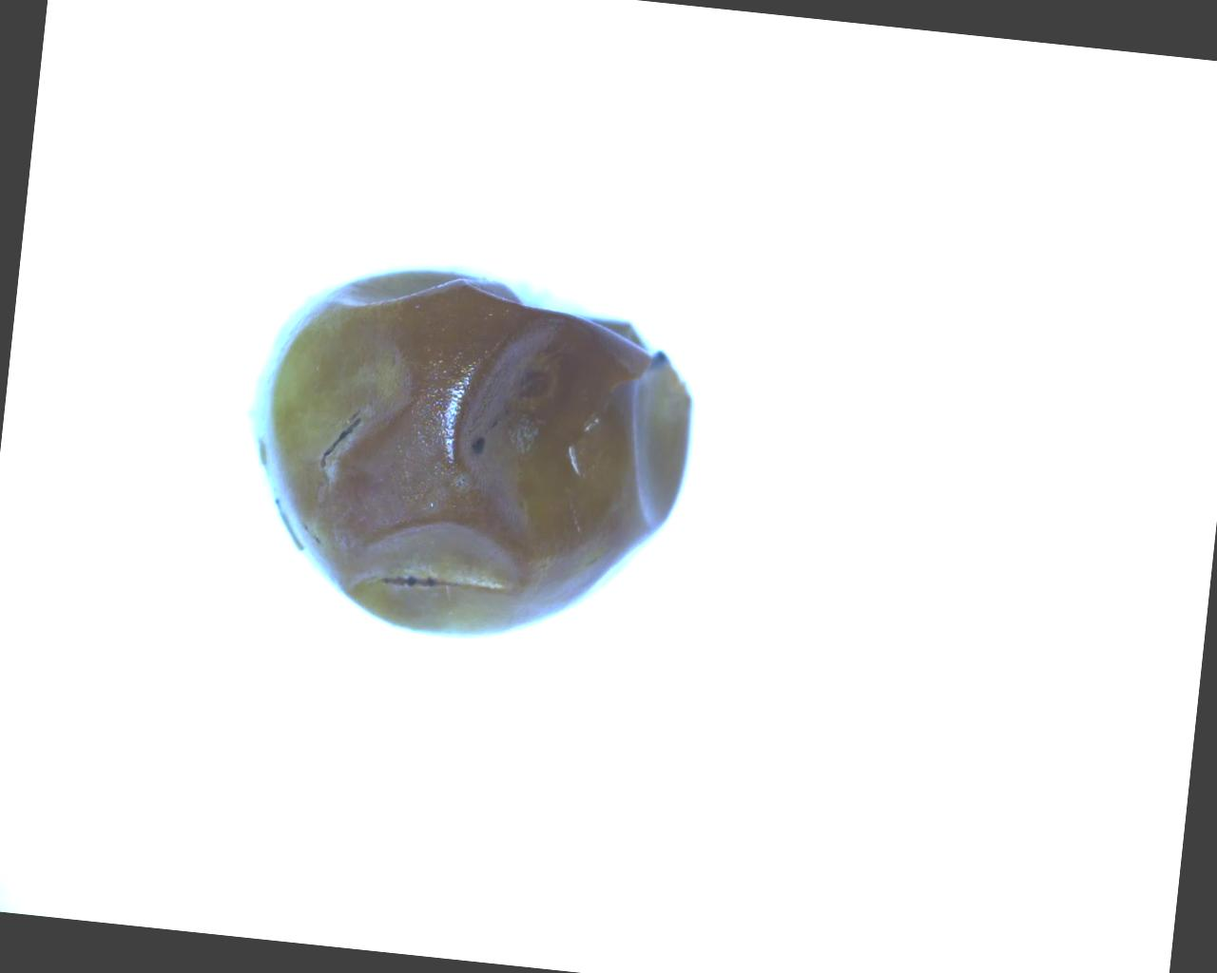Grape Rotten: (232, 248, 708, 661)
